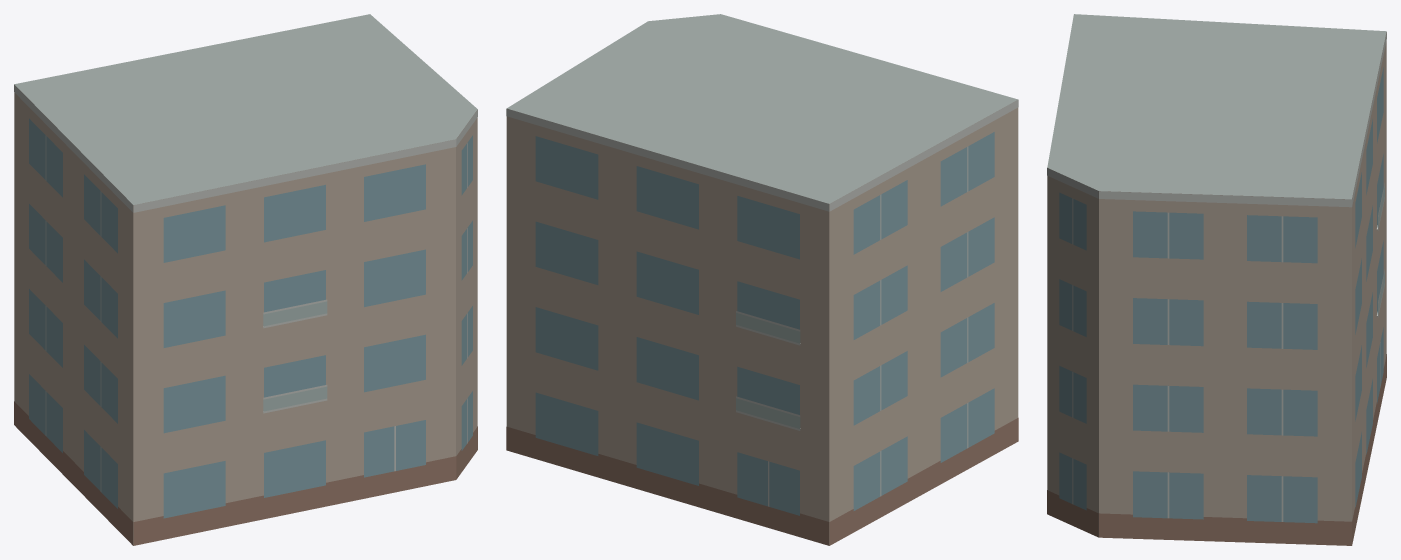
The model's file is survey-upis-32921449.glb.
3 renders of one model, left to right at view 1: azimuth 30°, elevation 25°; view 2: azimuth 150°, elevation 25°; view 3: azimuth 270°, elevation 25°, orthographic.
Visible parts, largest first — view 1: survey-upis-32921449.tmp; view 2: survey-upis-32921449.tmp; view 3: survey-upis-32921449.tmp.
Boxes of the visible parts, left/top/right/bottom form: survey-upis-32921449.tmp: left=14, top=14, right=477, bottom=545; survey-upis-32921449.tmp: left=506, top=14, right=1018, bottom=545; survey-upis-32921449.tmp: left=1047, top=14, right=1386, bottom=545.
Bounding box in the file's own units: 12.28 × 10.7 × 9.51.
